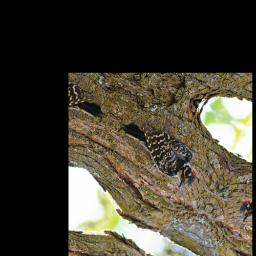Woodpecker: (106, 115, 208, 194)
